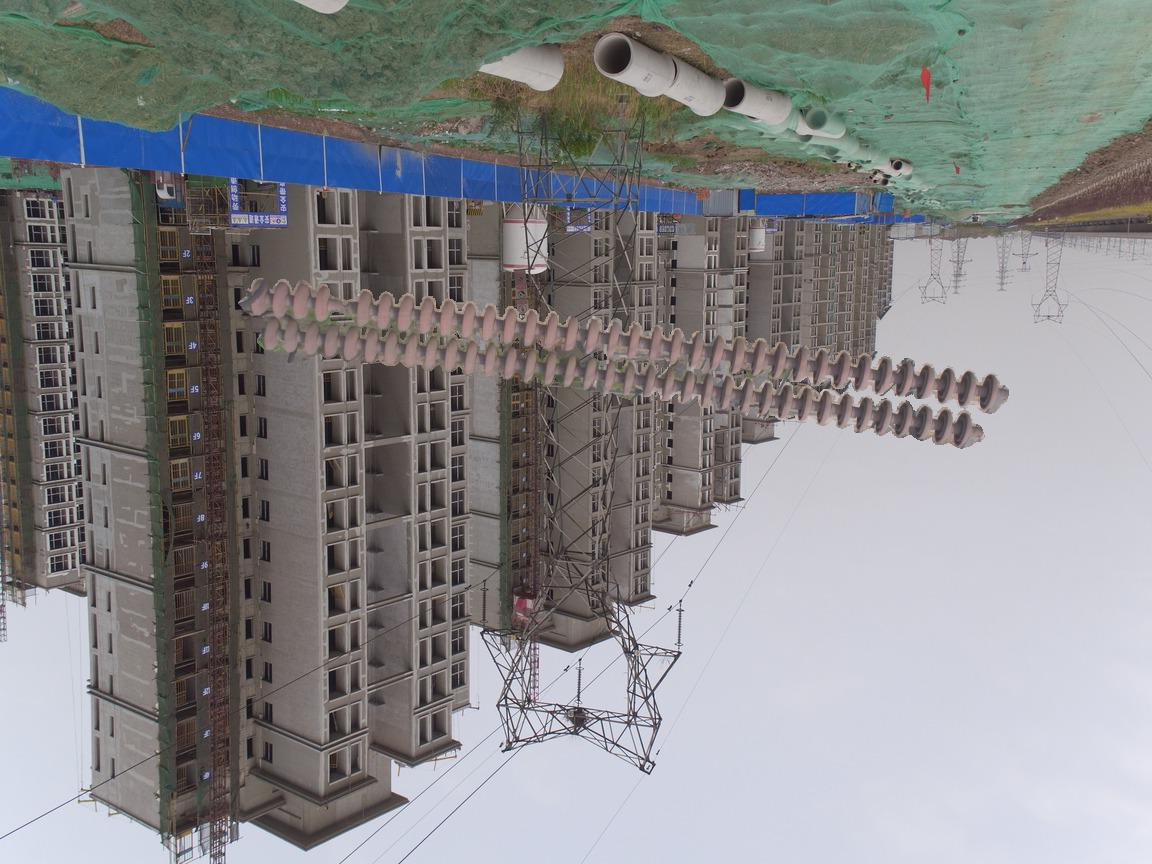insulator: (237, 269, 1010, 454), (477, 587, 493, 624), (673, 607, 686, 646), (573, 665, 586, 703)
insulator_stringdrop: (308, 282, 377, 331)
